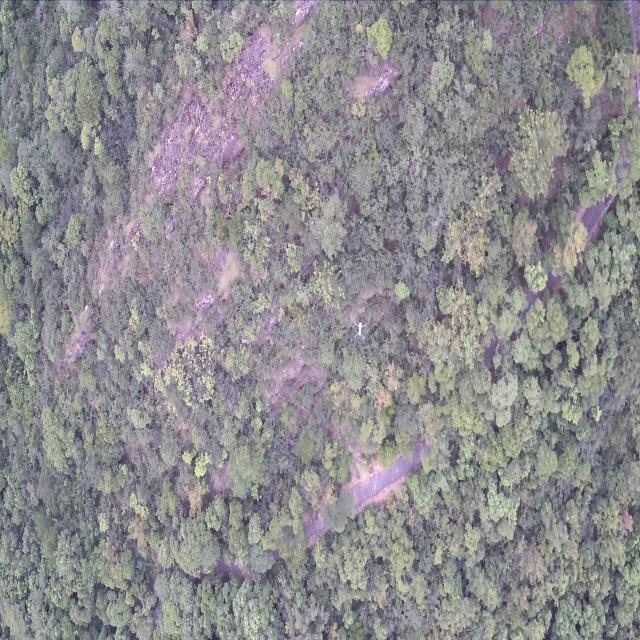UAV: (353, 320, 366, 340)
